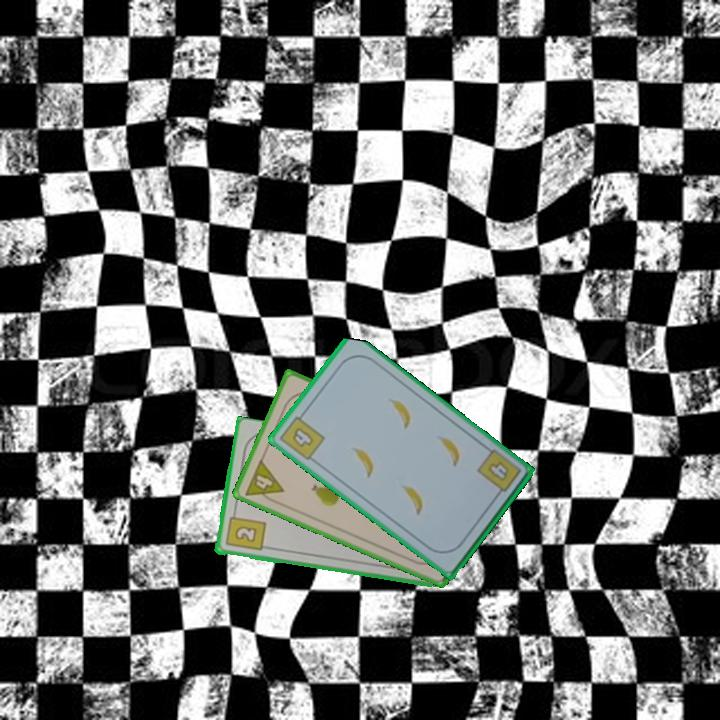2b: (222, 507, 268, 554)
4b: (276, 408, 328, 463), (473, 448, 524, 501)
4p: (241, 456, 287, 507)
